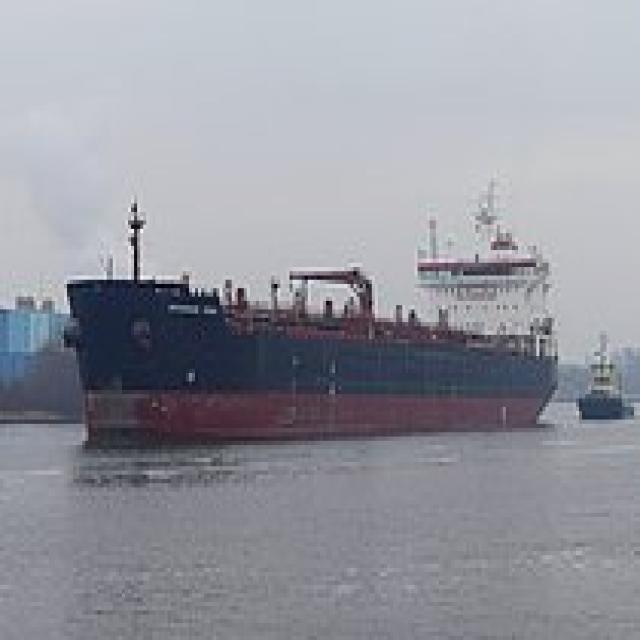Tanker: (58, 170, 555, 436)
